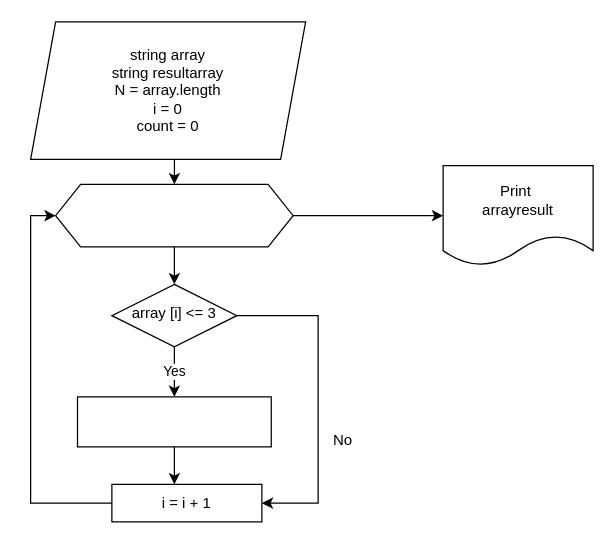
This 615x544 diagram has some shape labels left out. Each missing label, with the box of its shape:
arrayresult[count] = array [i] count++: (76, 396, 271, 447)
i = 0, i < N, i++: (54, 183, 293, 247)
